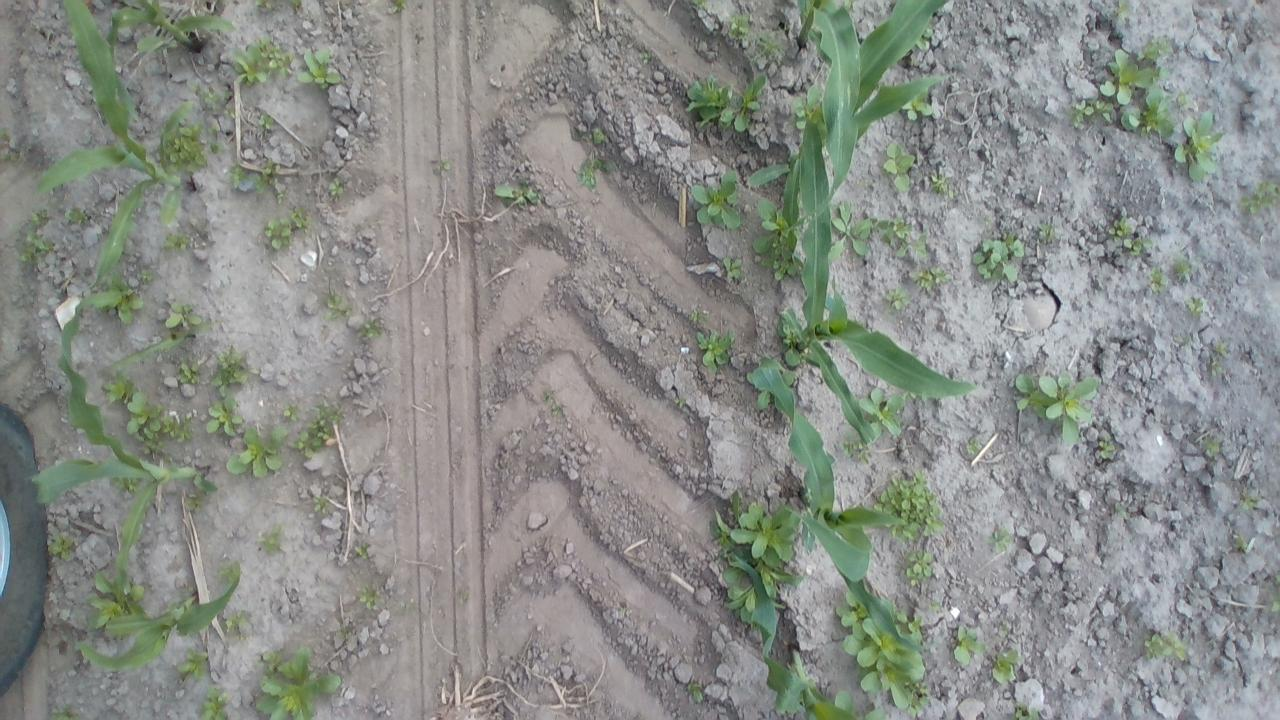Maize: (785, 107, 983, 447), (23, 280, 215, 616), (748, 354, 928, 655), (29, 0, 202, 289), (781, 0, 958, 259), (726, 551, 887, 720), (61, 544, 245, 689), (786, 0, 864, 224), (105, 0, 238, 56), (98, 324, 197, 373)
Weeds: (836, 593, 926, 704), (100, 369, 194, 458), (1011, 366, 1101, 454), (252, 645, 342, 720), (688, 67, 768, 138), (874, 464, 952, 536), (731, 498, 802, 570), (1168, 100, 1223, 187), (751, 198, 798, 283), (686, 168, 746, 234), (86, 575, 146, 640), (1098, 42, 1156, 106), (286, 399, 346, 458), (232, 33, 294, 90), (1120, 87, 1176, 146), (223, 426, 284, 480), (966, 229, 1028, 282), (878, 210, 936, 264), (831, 198, 876, 265), (857, 385, 908, 441), (91, 274, 144, 325), (882, 138, 918, 202), (262, 203, 310, 248), (165, 122, 208, 172), (212, 343, 254, 394), (694, 324, 736, 374), (248, 150, 288, 202), (791, 84, 827, 140), (1109, 210, 1152, 256), (296, 47, 342, 90), (574, 147, 616, 194), (203, 396, 244, 443), (1142, 627, 1191, 666), (488, 174, 540, 210), (1242, 175, 1278, 221), (746, 24, 788, 63), (17, 228, 57, 268), (908, 259, 952, 295), (951, 624, 987, 668), (898, 546, 936, 586), (190, 78, 234, 112), (321, 275, 353, 319), (988, 649, 1024, 688), (164, 298, 202, 334), (902, 94, 941, 127), (175, 646, 209, 682), (197, 683, 230, 720), (839, 437, 876, 467), (1206, 334, 1232, 376), (722, 10, 752, 46), (222, 608, 255, 640), (254, 520, 284, 555), (884, 283, 916, 312), (984, 524, 1011, 554), (570, 124, 605, 147), (1034, 214, 1062, 242), (354, 316, 384, 342), (159, 229, 192, 252), (48, 532, 74, 560), (1146, 264, 1168, 296), (180, 488, 207, 514), (0, 126, 18, 164), (262, 645, 284, 676), (62, 204, 93, 226), (1070, 100, 1094, 128), (684, 678, 708, 706), (717, 257, 745, 280), (359, 584, 382, 612), (108, 478, 140, 498), (208, 124, 228, 156), (1184, 291, 1208, 317), (1009, 700, 1040, 720), (1142, 37, 1170, 59), (1170, 255, 1192, 282), (907, 698, 934, 720), (176, 361, 203, 383), (896, 612, 920, 636), (310, 493, 334, 516), (133, 266, 156, 290), (24, 206, 51, 226), (928, 172, 951, 195), (1091, 438, 1114, 460), (1200, 434, 1222, 457), (228, 160, 246, 188), (430, 154, 452, 176), (686, 304, 708, 326), (215, 560, 238, 580), (352, 540, 372, 560), (1113, 0, 1134, 19), (328, 175, 345, 198), (1232, 532, 1250, 552), (455, 584, 473, 604), (963, 434, 982, 452), (994, 622, 1013, 640), (258, 110, 275, 130), (1110, 499, 1128, 517), (336, 622, 354, 640), (919, 26, 932, 50), (254, 0, 278, 13), (389, 0, 408, 15), (1268, 592, 1280, 614), (1242, 496, 1256, 514), (548, 402, 562, 420), (637, 48, 653, 63), (676, 394, 689, 412), (284, 404, 300, 418), (687, 0, 708, 8), (541, 390, 554, 402), (291, 0, 302, 10), (1274, 572, 1280, 584)
